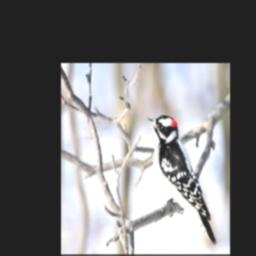Woodpecker: (146, 115, 217, 246)
